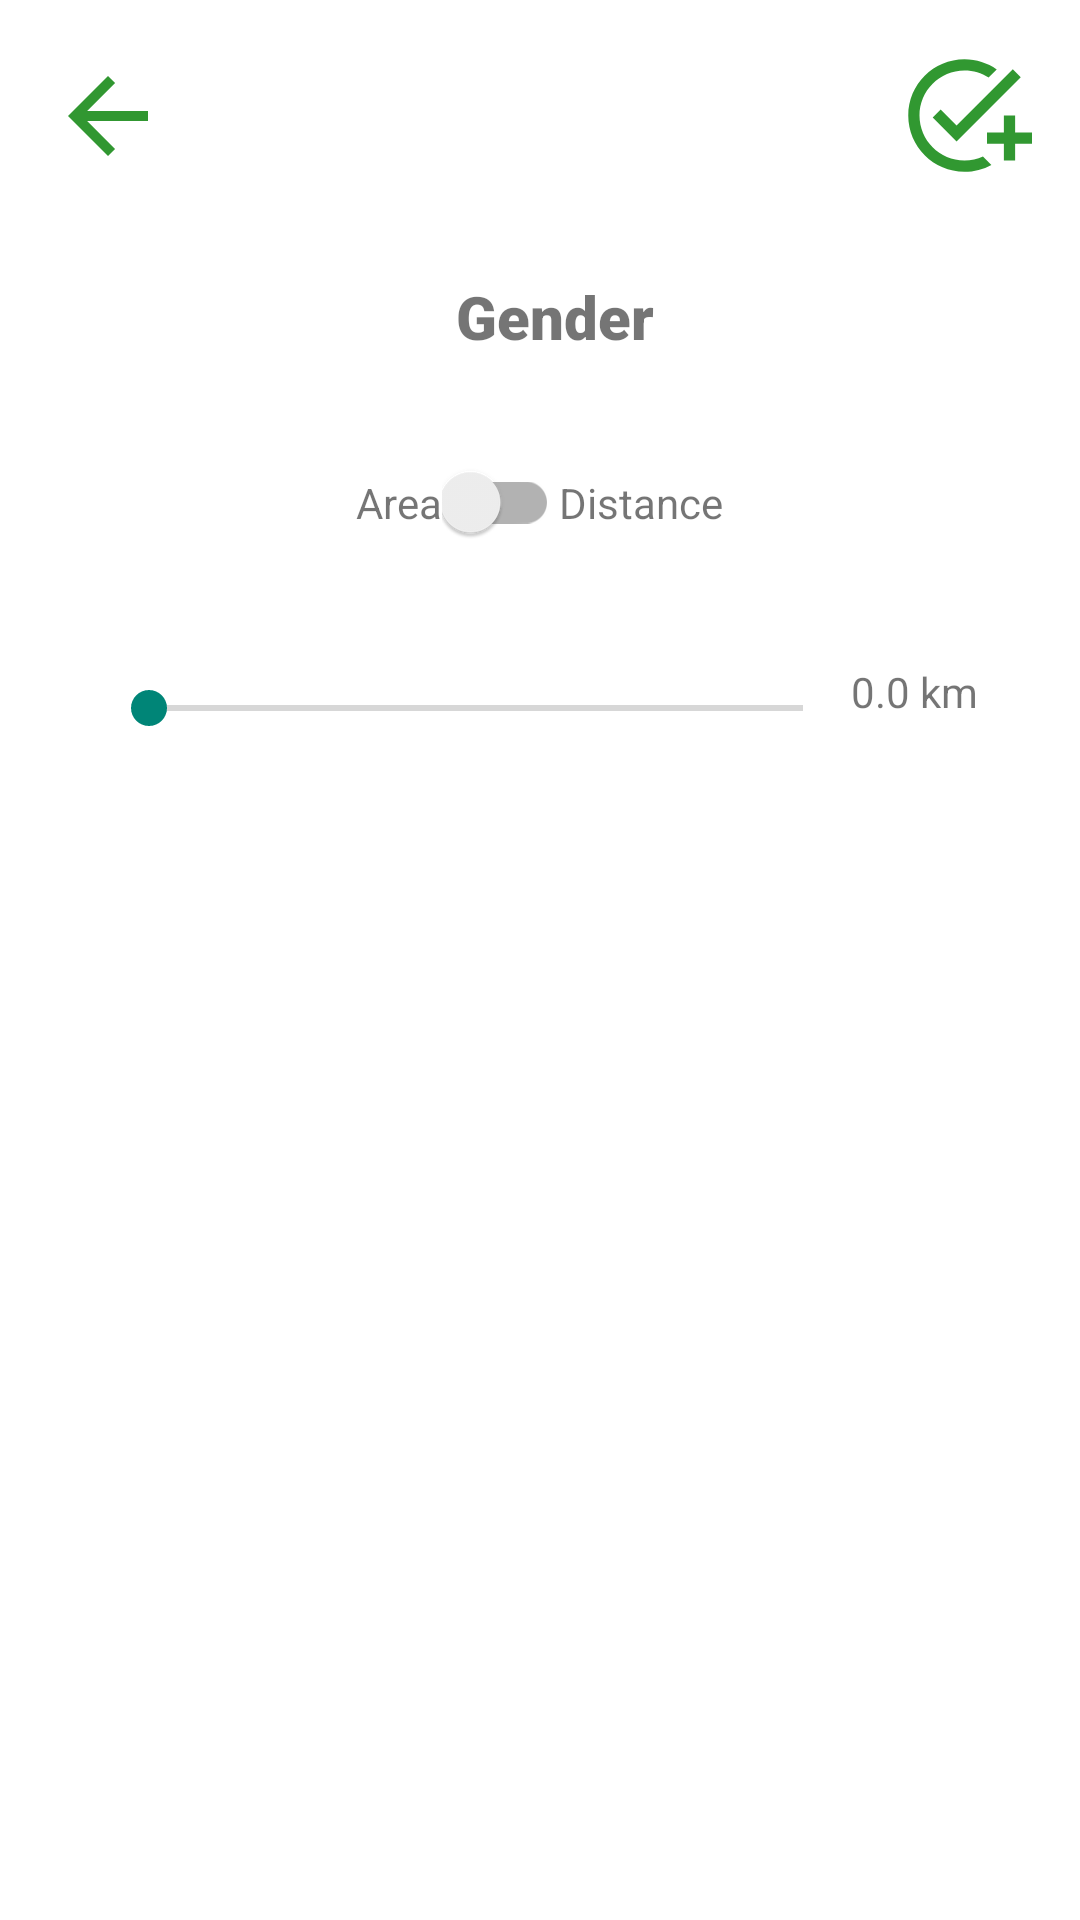

Named icons in this screenshot (1080 × 1920) and their bounding boxes, (x1,y1,x2,y2):
back button: (68,76,148,156)
save button: (908,59,1032,172)
